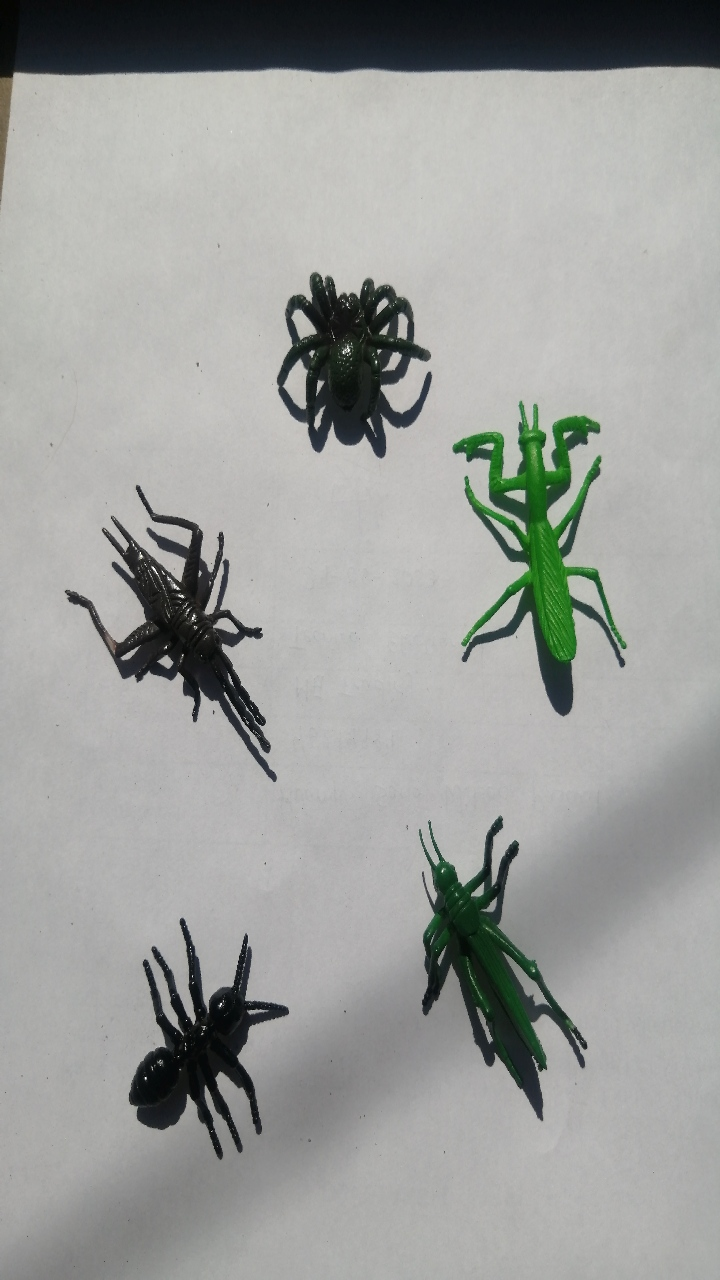intruso: (375, 769, 620, 1142), (60, 439, 308, 803), (437, 382, 648, 709), (86, 880, 315, 1179), (240, 215, 435, 502)
